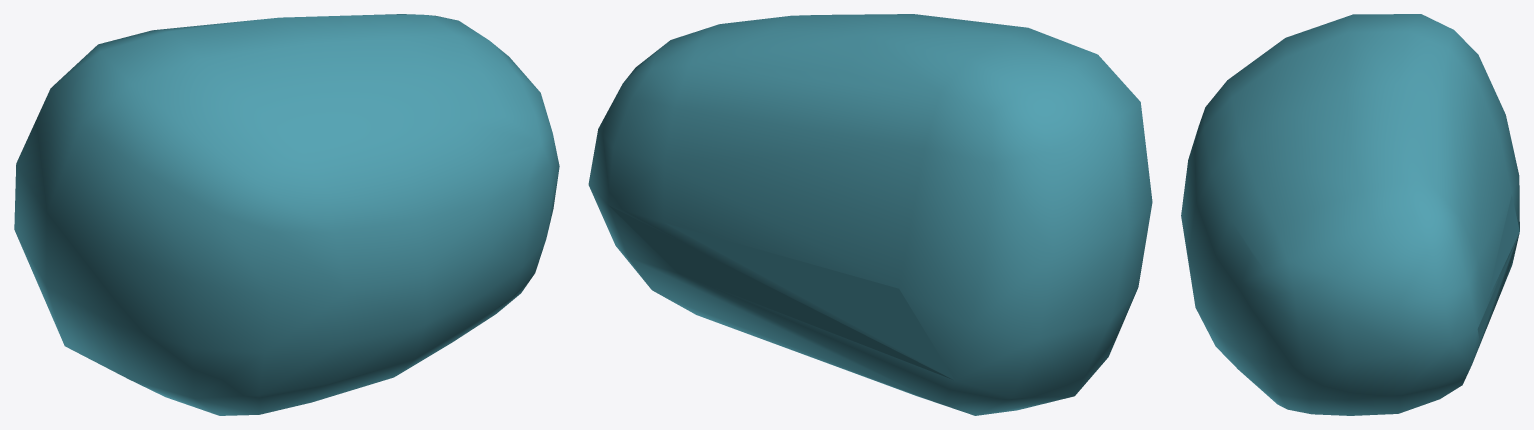
The model's file is COL_Alpha_Surface_030_convex_hull.dae.
3 views of the same model, side by side, from view 1: azimuth 30°, elevation 25°; view 2: azimuth 150°, elevation 25°; view 3: azimuth 270°, elevation 25° (orthographic). The views are drawn at different scales.
Visible parts, largest first — view 1: COL_Alpha_Surface_030_convex_hull; view 2: COL_Alpha_Surface_030_convex_hull; view 3: COL_Alpha_Surface_030_convex_hull.
Boxes of the visible parts, x1,y1,x2,y2 form: COL_Alpha_Surface_030_convex_hull: (14,14,559,415); COL_Alpha_Surface_030_convex_hull: (588,14,1152,415); COL_Alpha_Surface_030_convex_hull: (1181,14,1519,415).
Size of the model in its own units: 3.05 by 2.06 by 1.99.
